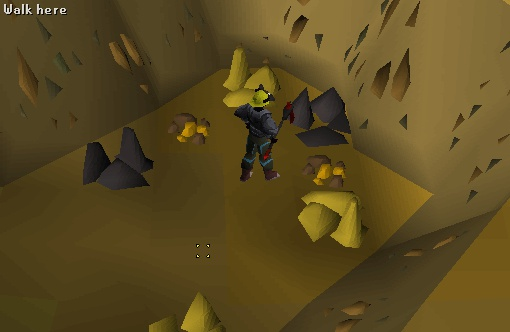depleted: (71, 125, 164, 206)
gold: (285, 181, 381, 252), (195, 37, 291, 108)
